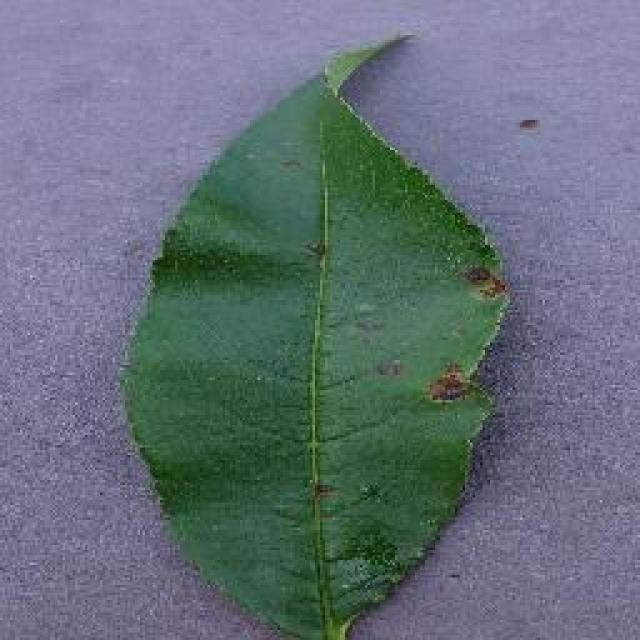Bacterial_spot: (117, 23, 518, 640)
